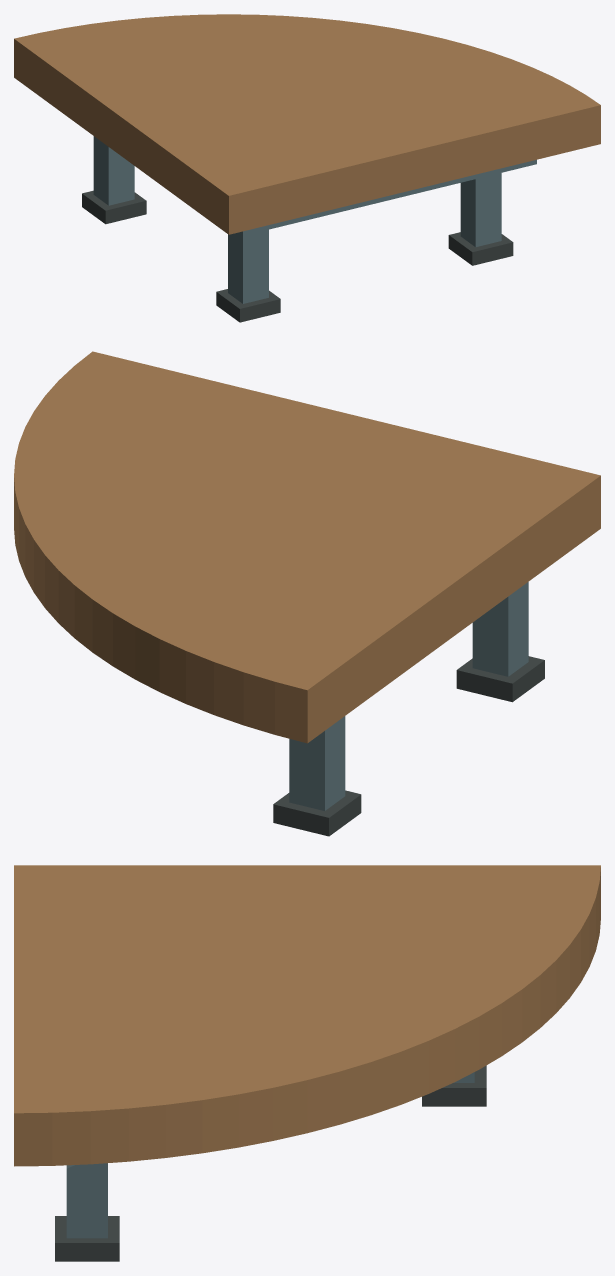
3 views of the same model, one above another, from view 1: azimuth 30°, elevation 25°; view 2: azimuth 150°, elevation 25°; view 3: azimuth 270°, elevation 25° (orthographic). The views are drawn at different scales.
Parts seen in each view (by area): view 1: ContinuousQuarterRoundThickDeck, ContinuousSupportPost_2, ContinuousSupportPost_1, ContinuousSupportPost_3, ContinuousTriangularOpenUnderframe, FlatGroundFoot_2, FlatGroundFoot_3, FlatGroundFoot_1; view 2: ContinuousQuarterRoundThickDeck, ContinuousSupportPost_3, ContinuousSupportPost_1, FlatGroundFoot_1, FlatGroundFoot_3; view 3: ContinuousQuarterRoundThickDeck, ContinuousSupportPost_2, FlatGroundFoot_2, FlatGroundFoot_3.
Boxes of the visible parts, bbox=[...] form: ContinuousQuarterRoundThickDeck: bbox=[14, 14, 600, 234]; ContinuousSupportPost_2: bbox=[460, 173, 501, 247]; ContinuousSupportPost_1: bbox=[228, 229, 268, 303]; ContinuousSupportPost_3: bbox=[93, 136, 134, 205]; ContinuousTriangularOpenUnderframe: bbox=[238, 159, 536, 235]; FlatGroundFoot_2: bbox=[448, 232, 513, 265]; FlatGroundFoot_3: bbox=[82, 190, 146, 224]; FlatGroundFoot_1: bbox=[216, 289, 280, 322]; ContinuousQuarterRoundThickDeck: bbox=[14, 351, 600, 743]; ContinuousSupportPost_3: bbox=[289, 716, 345, 810]; ContinuousSupportPost_1: bbox=[472, 582, 528, 676]; FlatGroundFoot_1: bbox=[456, 656, 544, 702]; FlatGroundFoot_3: bbox=[273, 790, 361, 836]; ContinuousQuarterRoundThickDeck: bbox=[14, 865, 600, 1166]; ContinuousSupportPost_2: bbox=[66, 1163, 107, 1238]; FlatGroundFoot_2: bbox=[55, 1216, 119, 1261]; FlatGroundFoot_3: bbox=[422, 1065, 486, 1106].
Size of the model in its own units: 1 by 0.37 by 1.
